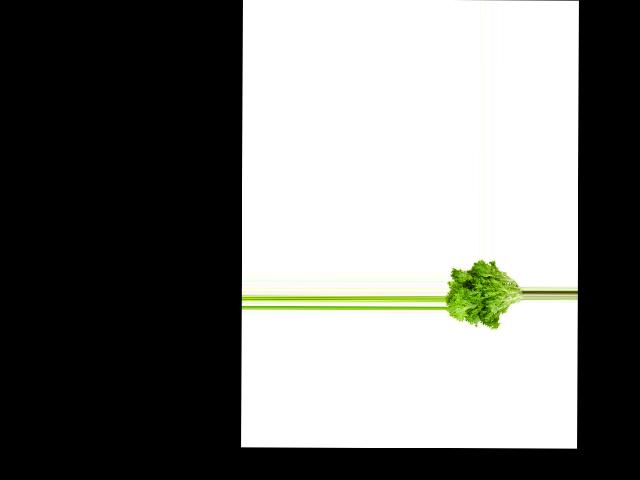lettuce: (446, 256, 524, 329)
